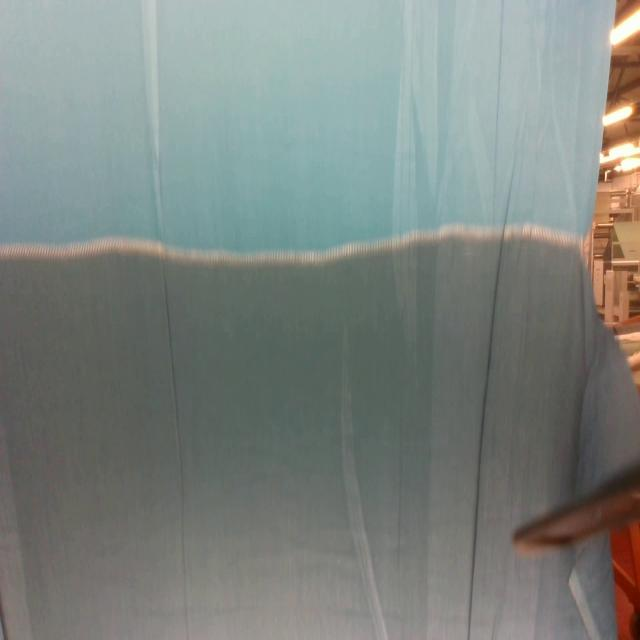crease: (141, 0, 192, 640), (467, 153, 518, 640), (391, 0, 439, 367), (341, 324, 387, 637), (489, 0, 507, 219)
